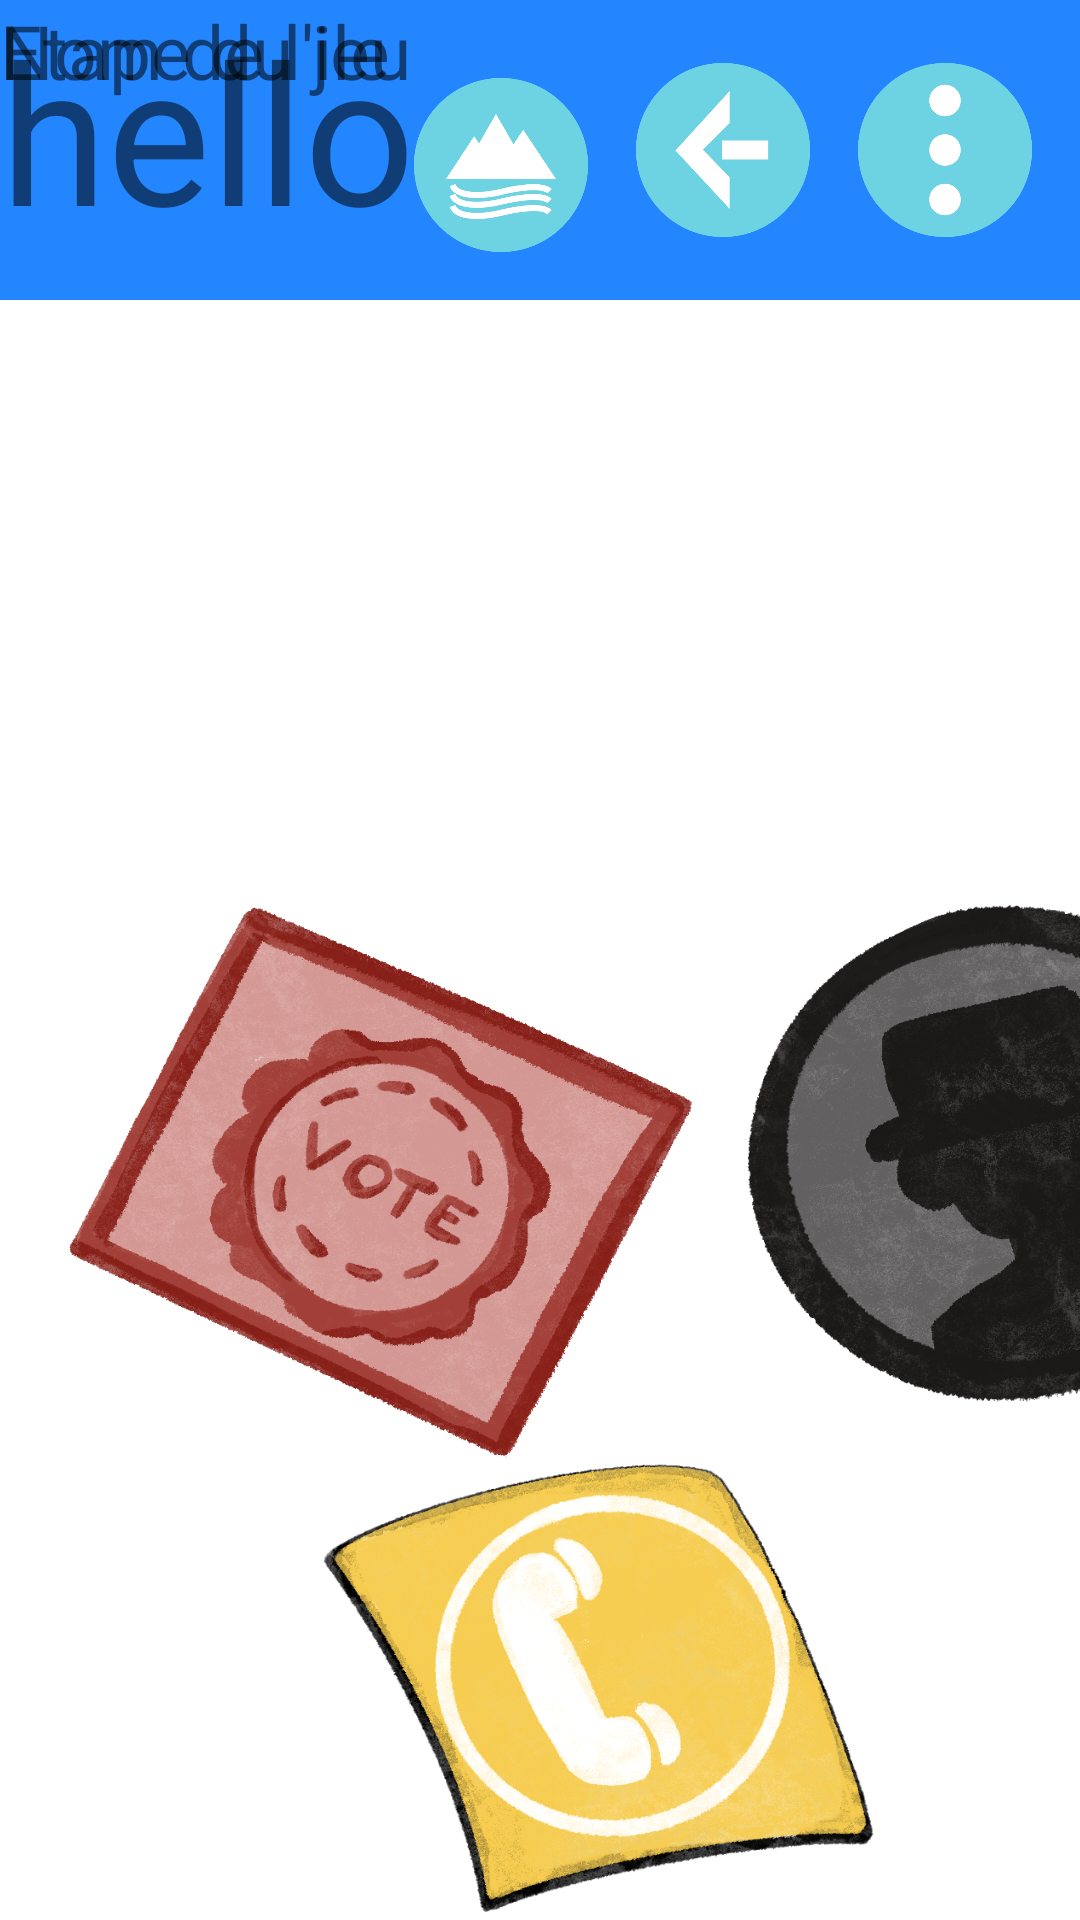

Screen size 1080 x 1920. Icon name, then its center in pixels as point (x, y):
back: point (723, 150)
parameters: point (945, 150)
